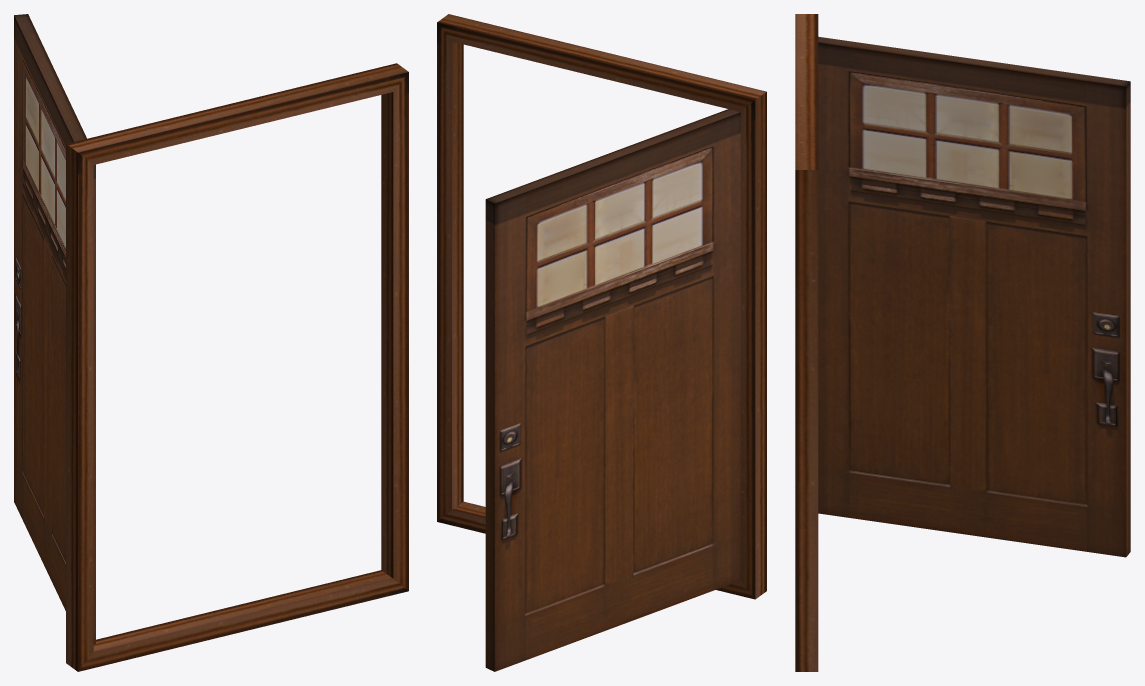
The model's file is door_1A.FBX.
3 views of the same model, side by side, from view 1: azimuth 30°, elevation 25°; view 2: azimuth 150°, elevation 25°; view 3: azimuth 270°, elevation 25° (orthographic). The views are drawn at different scales.
Visible parts, largest first — view 1: door_1A; view 2: door_1A; view 3: door_1A.
Boxes of the visible parts, bbox=[...] form: door_1A: bbox=[14, 14, 408, 671]; door_1A: bbox=[437, 14, 766, 671]; door_1A: bbox=[795, 14, 1130, 671].
Size of the model in its own units: 16 by 24 by 14.53.
